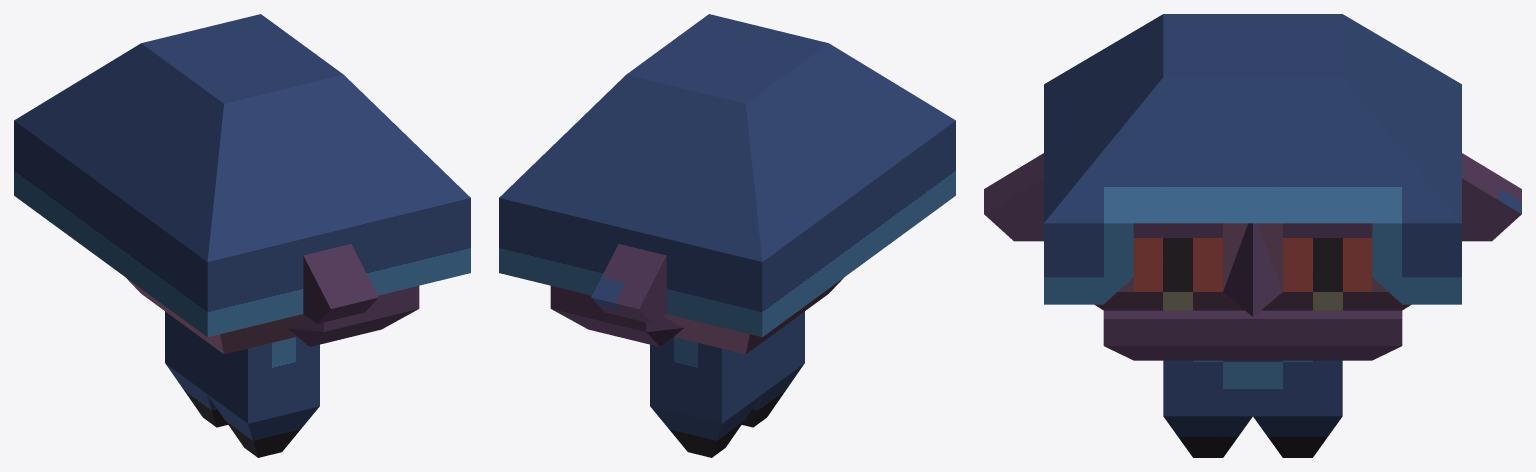
Rendered from brute_goblin.glb.
The picture shows the model from 3 angles, left to right: view 1: azimuth 30°, elevation 25°; view 2: azimuth 150°, elevation 25°; view 3: azimuth 270°, elevation 25°; orthographic projection. The views are drawn at different scales.
Visible parts, largest first — view 1: Cube.001, Cube; view 2: Cube.001, Cube; view 3: Cube.001, Cube.
Part boxes in pixels (x1=…): Cube.001: x1=14, y1=14, x2=470, y2=337; Cube: x1=126, y1=244, x2=419, y2=457; Cube.001: x1=499, y1=14, x2=955, y2=337; Cube: x1=550, y1=244, x2=843, y2=457; Cube.001: x1=1044, y1=14, x2=1461, y2=304; Cube: x1=984, y1=153, x2=1521, y2=457.
Bounding box in the file's own units: 1.5 × 1.87 × 2.25.
Materials: 2 (2 with a texture image).
